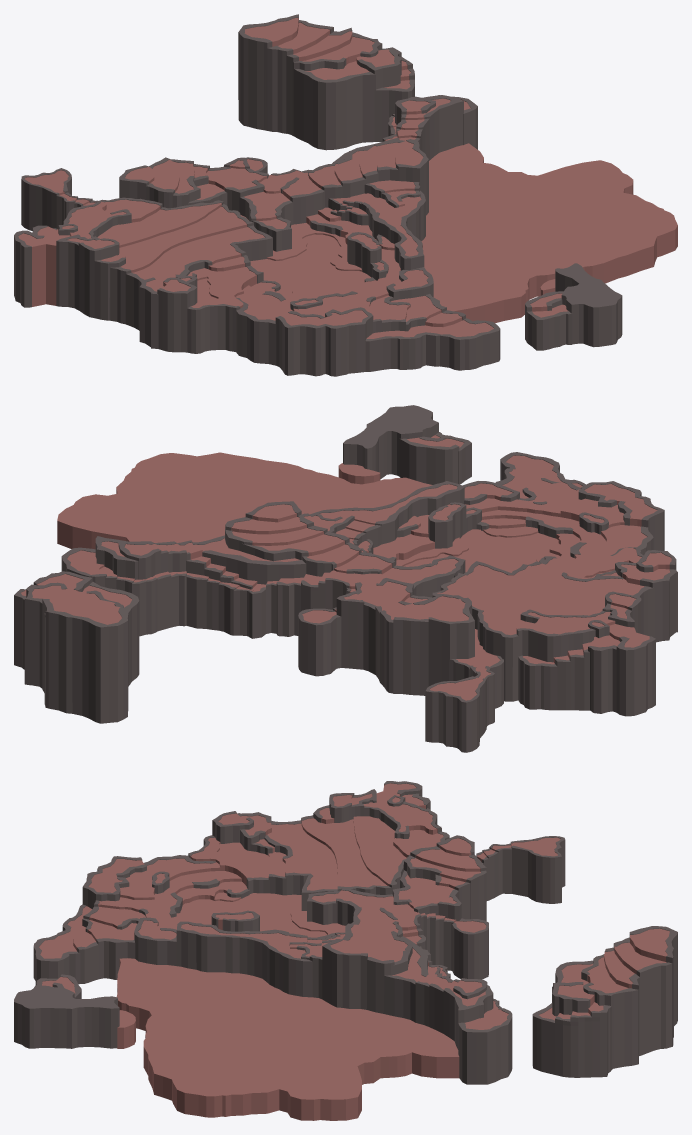
File: tiles_caelid.glb
The picture shows the model from 3 angles, top to bottom: view 1: azimuth 30°, elevation 25°; view 2: azimuth 150°, elevation 25°; view 3: azimuth 270°, elevation 25°; orthographic projection. The views are drawn at different scales.
Visible parts, largest first — view 1: Plane.186, Plane.232, Plane.221, Plane.225, Plane.159, Plane.164, Plane.229, Plane.236, Plane.166, Plane.158, Plane.149, Plane.184 (+42 smaller); view 2: Plane.186, Plane.236, Plane.183, Plane.184, Plane.152, Plane.229, Plane.159, Plane.182, Plane.172, Plane.149, Plane.153, Plane.199 (+51 smaller); view 3: Plane.186, Plane.199, Plane.229, Plane.233, Plane.184, Plane.235, Plane.159, Plane.185, Plane.234, Plane.196, Plane.158, Plane.166 (+46 smaller).
Boxes of the visible parts, bbox=[...] form: Plane.186: bbox=[421, 143, 677, 323]; Plane.232: bbox=[294, 61, 375, 150]; Plane.221: bbox=[275, 307, 373, 376]; Plane.225: bbox=[365, 318, 500, 371]; Plane.159: bbox=[125, 225, 272, 330]; Plane.164: bbox=[187, 265, 263, 353]; Plane.229: bbox=[555, 263, 622, 347]; Plane.236: bbox=[238, 14, 298, 130]; Plane.166: bbox=[250, 234, 371, 298]; Plane.158: bbox=[109, 203, 253, 324]; Plane.149: bbox=[14, 230, 70, 307]; Plane.184: bbox=[21, 168, 96, 230]; Plane.186: bbox=[57, 452, 432, 549]; Plane.236: bbox=[45, 603, 128, 723]; Plane.183: bbox=[100, 566, 253, 636]; Plane.184: bbox=[425, 665, 494, 752]; Plane.152: bbox=[518, 642, 590, 710]; Plane.229: bbox=[343, 405, 438, 479]; Plane.159: bbox=[464, 561, 654, 637]; Plane.182: bbox=[249, 572, 329, 638]; Plane.172: bbox=[393, 597, 471, 695]; Plane.149: bbox=[609, 624, 655, 716]; Plane.153: bbox=[516, 609, 615, 662]; Plane.199: bbox=[310, 481, 464, 544]; Plane.186: bbox=[116, 958, 459, 1120]; Plane.199: bbox=[176, 921, 312, 997]; Plane.229: bbox=[14, 985, 119, 1048]; Plane.233: bbox=[532, 1002, 611, 1077]; Plane.184: bbox=[476, 836, 565, 903]; Plane.235: bbox=[613, 937, 672, 1055]; Plane.159: bbox=[264, 820, 337, 910]; Plane.185: bbox=[458, 1008, 512, 1084]; Plane.234: bbox=[581, 954, 638, 1069]; Plane.196: bbox=[322, 939, 367, 1009]; Plane.158: bbox=[301, 815, 393, 894]; Plane.166: bbox=[180, 893, 327, 937].
Size of the model in its own units: 22.93 by 3.4 by 23.07.
